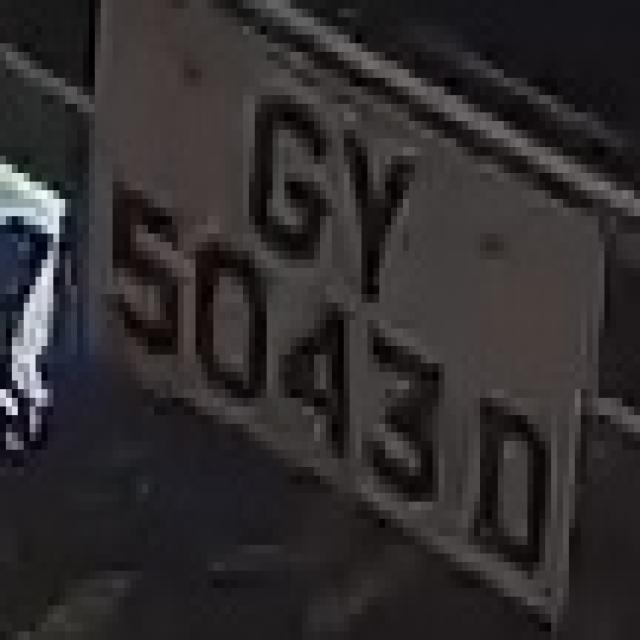0: (190, 199, 284, 415)
3: (362, 277, 451, 519)
4: (296, 251, 362, 458)
5: (106, 147, 178, 381)
D: (468, 354, 545, 580)
G: (237, 61, 332, 268)
Y: (320, 95, 427, 303)
